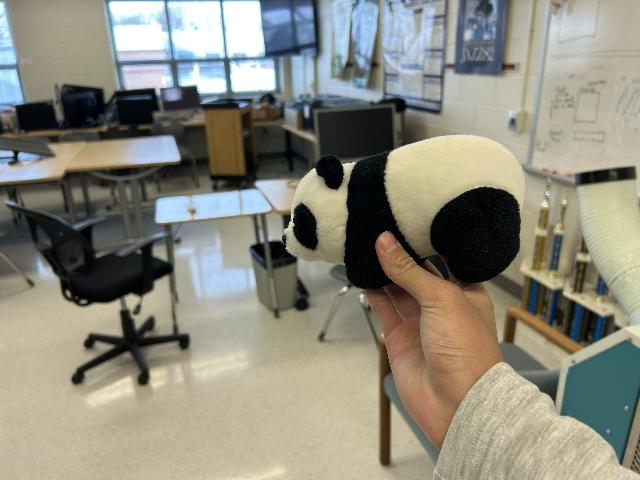panda_plushie: (283, 136, 525, 288)
